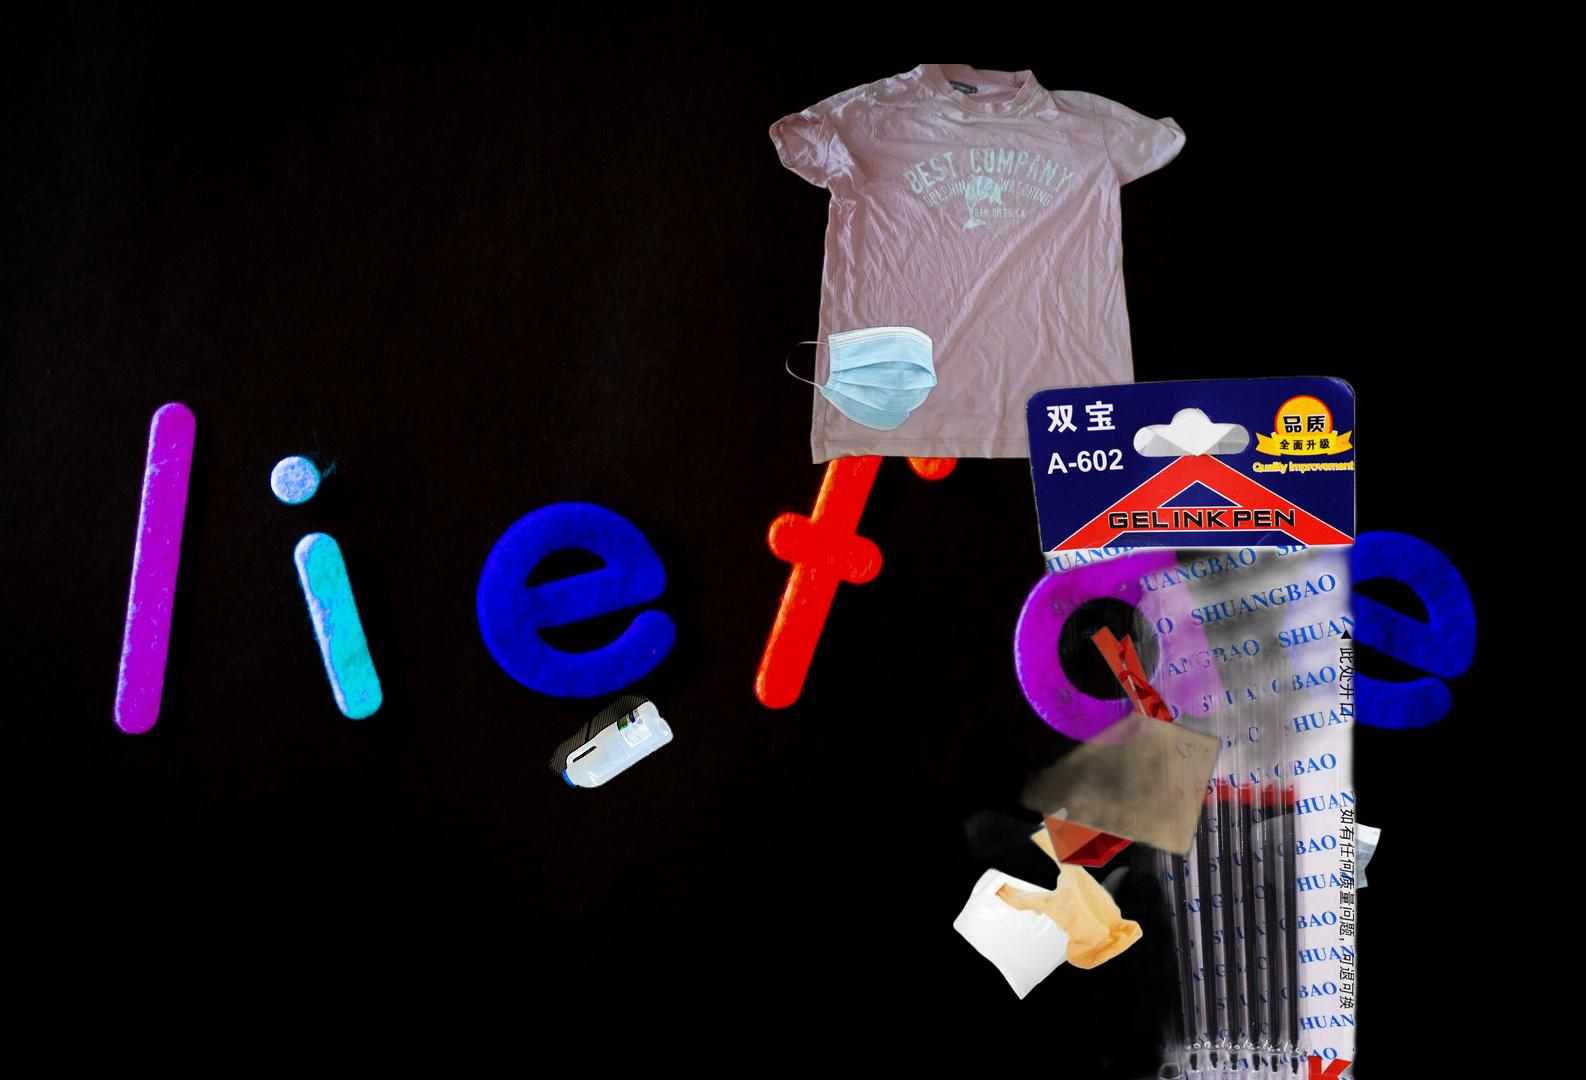clothes: (763, 64, 1189, 464)
paper-bag: (961, 586, 1233, 886)
penholder: (1017, 352, 1365, 1080)
plastic-bag: (950, 802, 1146, 1003)
plastic-bottles: (545, 687, 679, 796)
trash: (783, 323, 941, 434), (1232, 808, 1384, 899)
